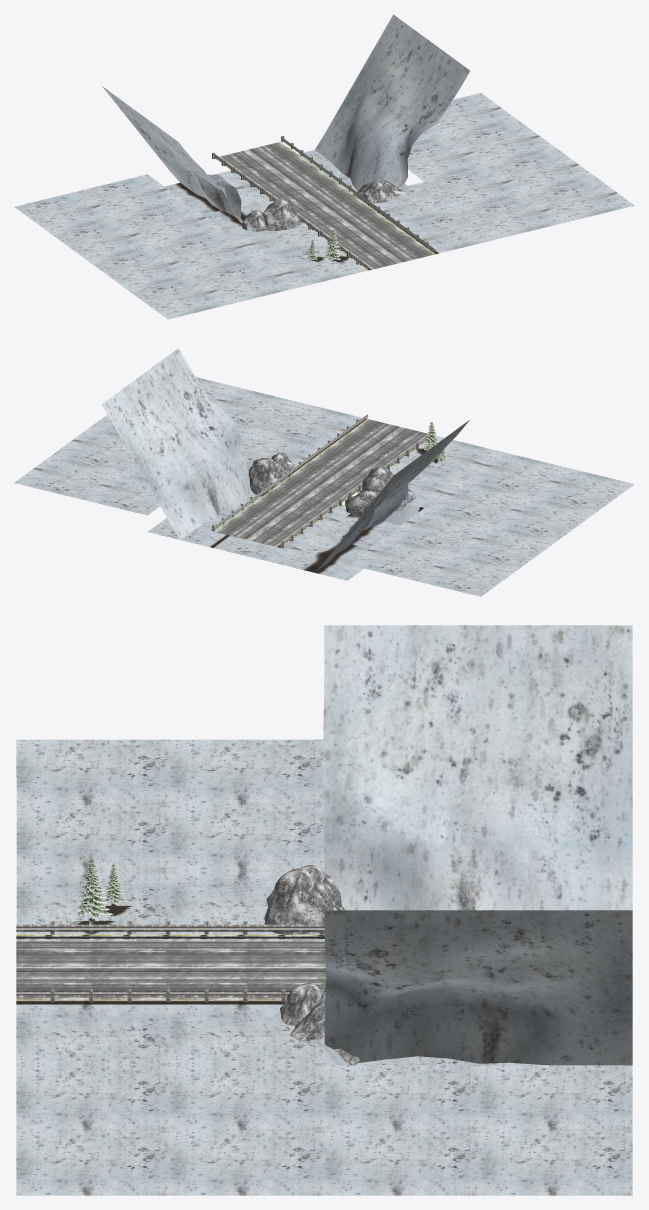
File: scene6_end.FBX
The picture shows the model from 3 angles, top to bottom: view 1: azimuth 30°, elevation 25°; view 2: azimuth 150°, elevation 25°; view 3: azimuth 270°, elevation 25°; orthographic projection. The views are drawn at different scales.
Parts seen in each view (by area): view 1: scene6_end, Box034, road012, Box035; view 2: scene6_end, Box034, road012; view 3: scene6_end, Box034, road012, Box035.
Part boxes in pixels (x1,y1,x2,y2): scene6_end: (14, 93, 634, 319); Box034: (102, 14, 469, 231); road012: (212, 135, 434, 270); Box035: (305, 230, 340, 261); scene6_end: (14, 377, 634, 596); Box034: (101, 348, 469, 571); road012: (212, 414, 434, 548); scene6_end: (16, 739, 632, 1195); Box034: (264, 625, 632, 1065); road012: (16, 921, 326, 1002); Box035: (73, 857, 127, 920).
Size of the model in its own units: 140 by 35.68 by 80.
